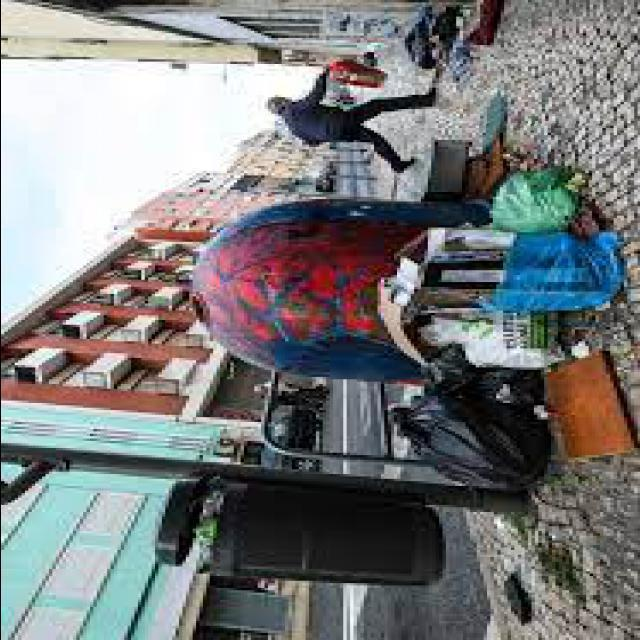Trashbag: (394, 390, 555, 497)
